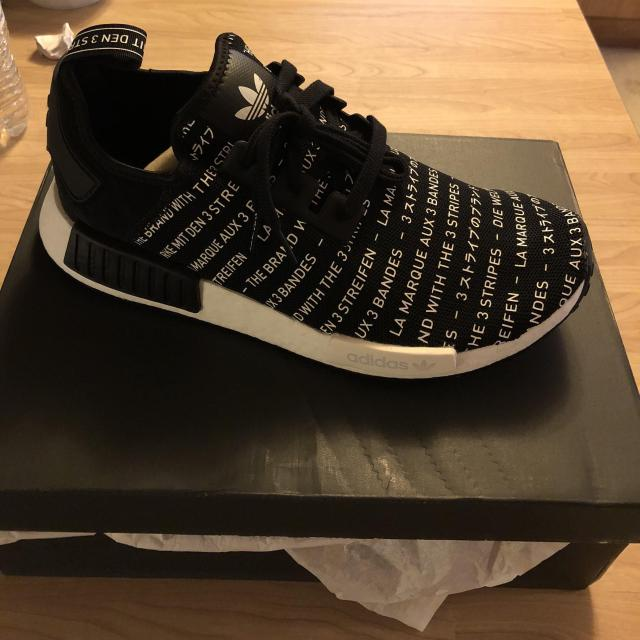shoes: (0, 11, 602, 386)
